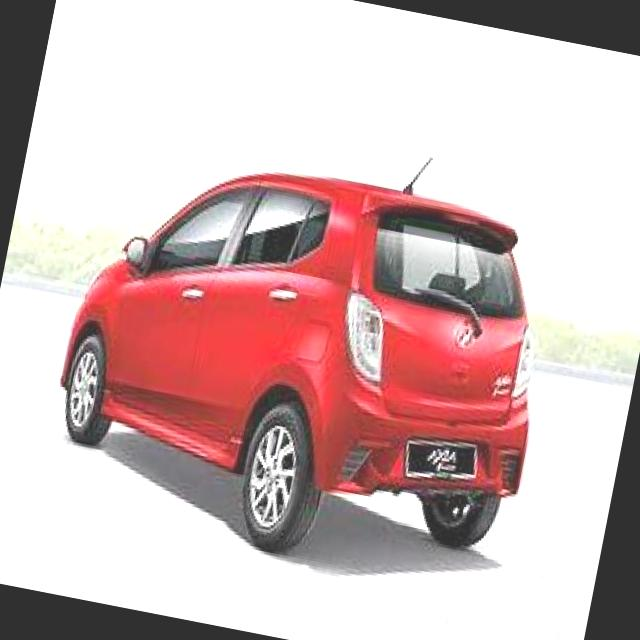PeroduaAxia: (33, 95, 580, 598)
